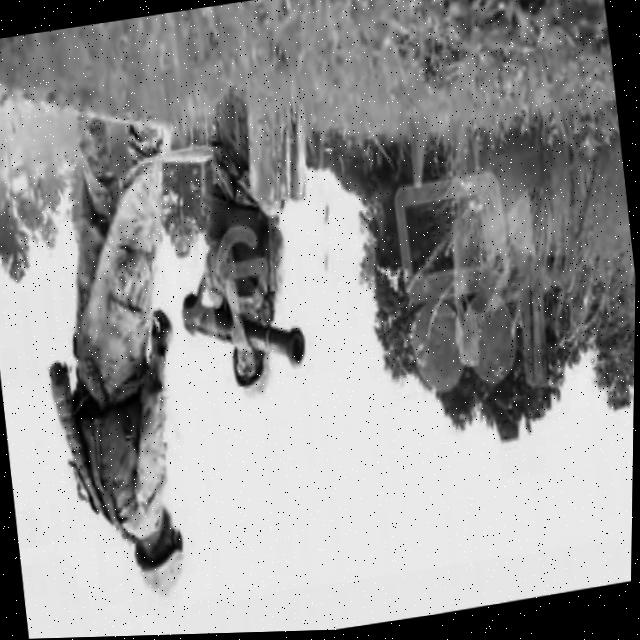rocket: (174, 280, 311, 391)
